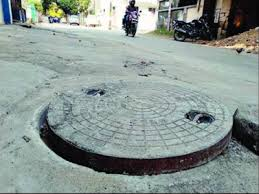Manhole-Closed: (34, 66, 239, 175)
